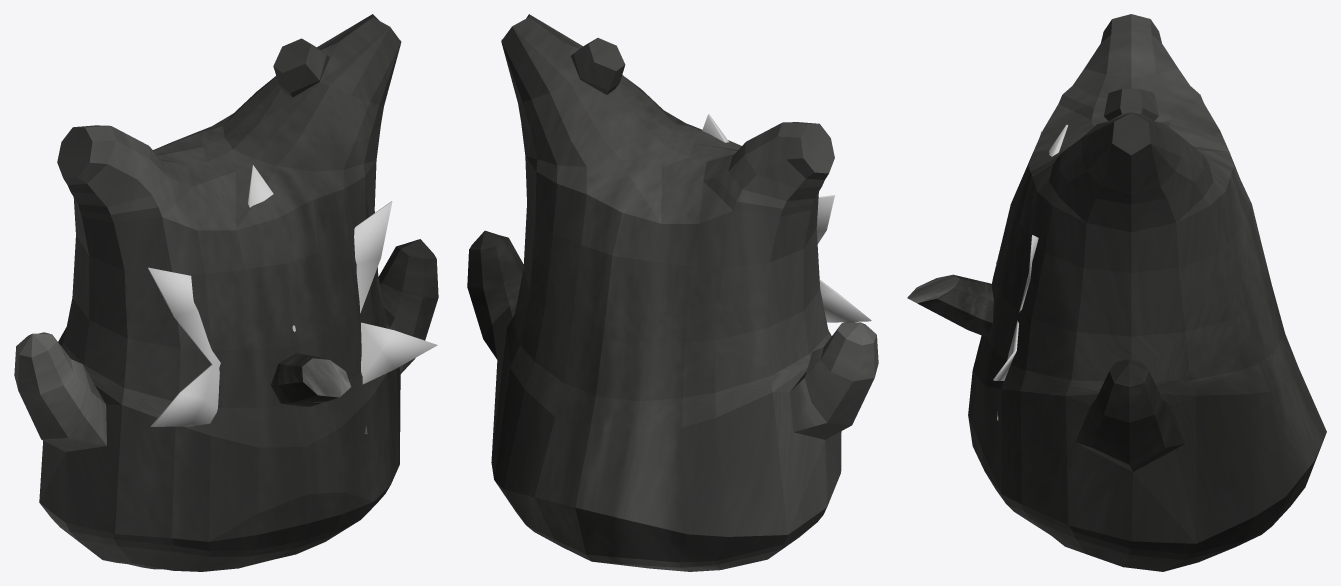
Rendered from frame_0065.obj.
3 renders of one model, left to right at view 1: azimuth 30°, elevation 25°; view 2: azimuth 150°, elevation 25°; view 3: azimuth 270°, elevation 25°, orthographic. The views are drawn at different scales.
Visible parts, largest first — view 1: korok, leaf.003_柱体.013, nose.003_柱体.011; view 2: korok, leaf.003_柱体.013; view 3: korok, nose.003_柱体.011, leaf.003_柱体.013.
Boxes of the visible parts, <box> form: korok: <box>14,14,438,571</box>; leaf.003_柱体.013: <box>148,165,437,434</box>; nose.003_柱体.011: <box>271,353,350,406</box>; korok: <box>467,14,878,571</box>; leaf.003_柱体.013: <box>702,114,871,322</box>; korok: <box>968,14,1326,571</box>; nose.003_柱体.011: <box>907,274,993,337</box>; leaf.003_柱体.013: <box>993,124,1068,420</box>.
Size of the model in its own units: 1.53 by 1.75 by 1.36.
